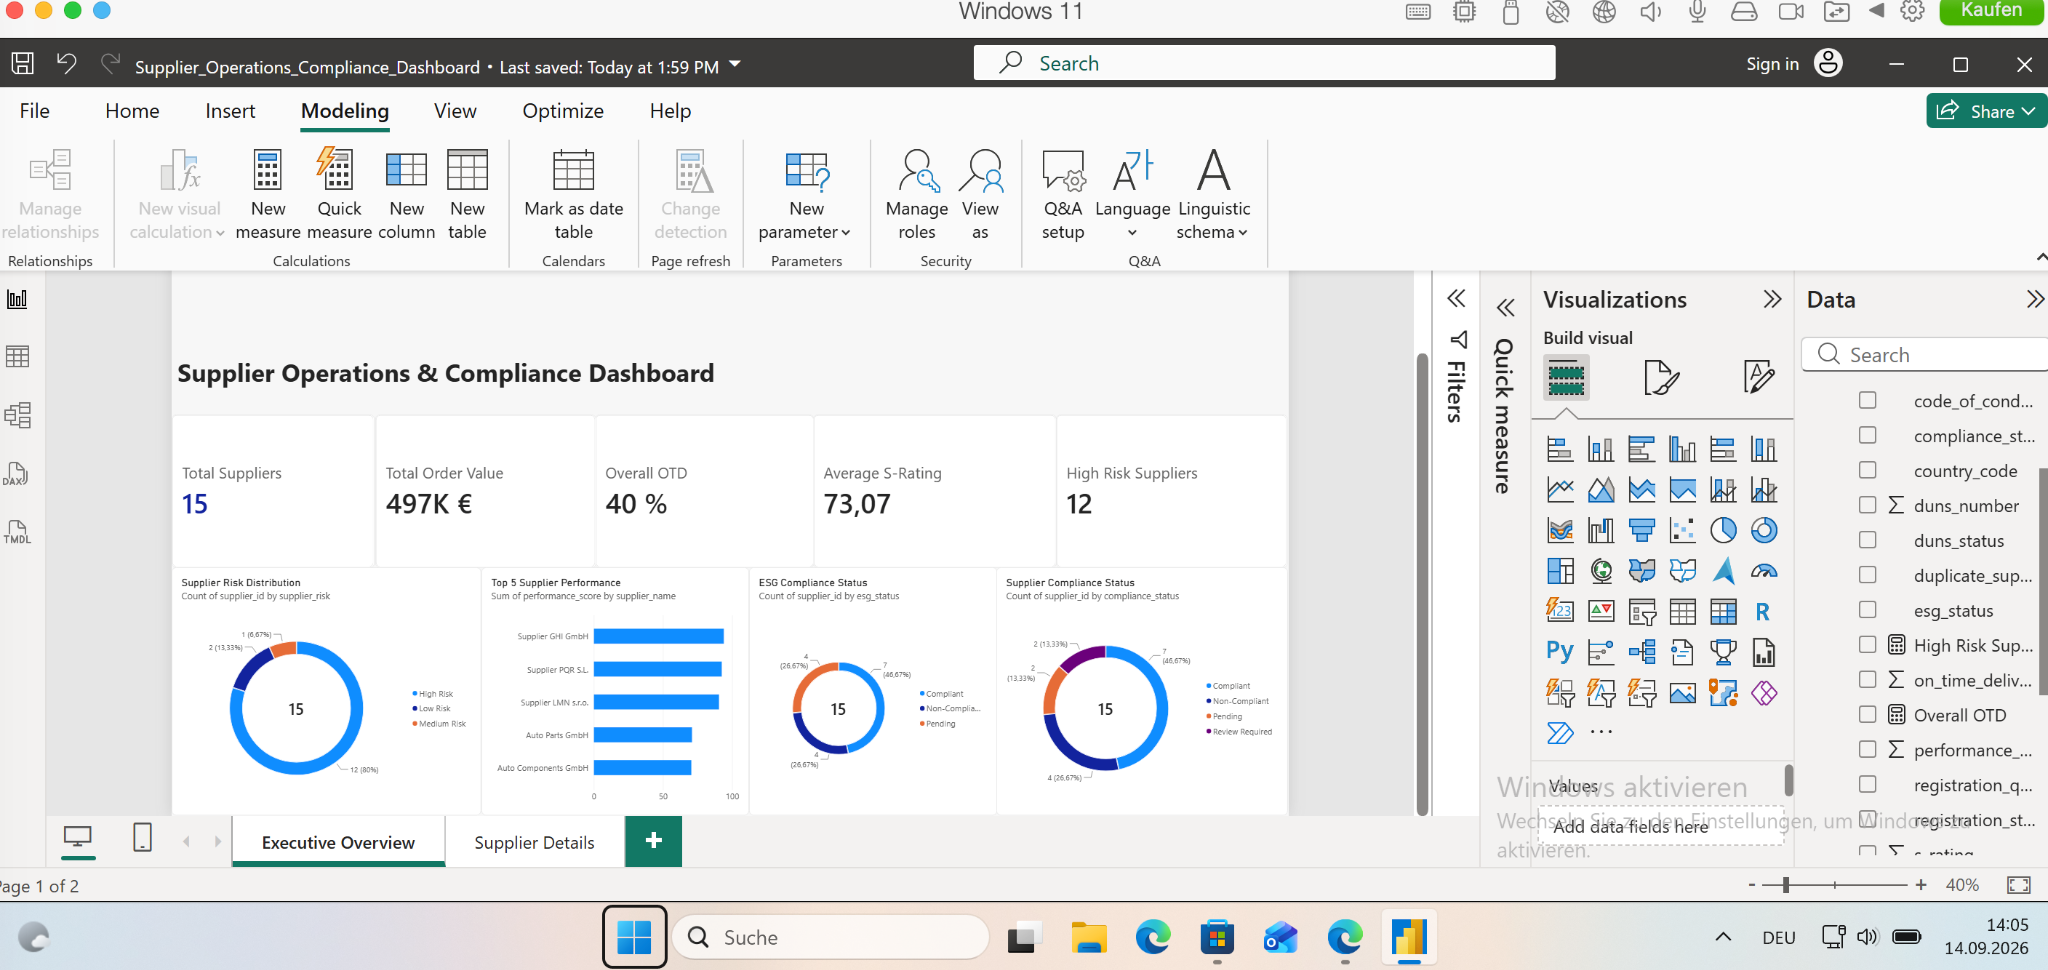

What the dashboard file says about the page in this screenshot:
{"tool":"powerbi","page":{"name":"Executive Overview","canvas":[1920,1080],"ordinal":0},"visuals":[{"type":"cardVisual","fields":{"Data":["supplier_kpi_analysis.Total Suppliers"]},"box":[0,390.1,348.8,263.5],"z":0},{"type":"cardVisual","fields":{"Data":["supplier_kpi_analysis.Average S-Rating"]},"box":[1103.3,390.1,418.6,263.5],"z":1},{"type":"cardVisual","fields":{"Data":["supplier_kpi_analysis.High Risk Suppliers"]},"box":[1521.8,390.1,397.9,263.5],"z":2},{"type":"cardVisual","fields":{"Data":["supplier_kpi_analysis.Overall OTD"]},"box":[728.6,390.1,377.2,263.5],"z":3},{"type":"cardVisual","fields":{"Data":["supplier_kpi_analysis.Total Order Value"]},"box":[348.8,390.1,379.8,263.5],"z":4},{"type":"textbox","box":[10.3,286.8,1909.4,121.4],"z":5},{"type":"donutChart","title":"Supplier Risk Distribution","fields":{"Category":["supplier_kpi_analysis.supplier_risk"],"Y":["CountNonNull(supplier_kpi_analysis.supplier_id)"]},"box":[0,653.7,532.2,426.3],"z":6},{"type":"clusteredBarChart","title":"Top 5 Supplier Performance","fields":{"Category":["supplier_kpi_analysis.supplier_name"],"Y":["Sum(supplier_kpi_analysis.performance_score)"]},"box":[532.2,653.7,459.9,426.3],"z":7},{"type":"donutChart","title":"ESG Compliance Status","fields":{"Category":["supplier_kpi_analysis.esg_status"],"Y":["CountNonNull(supplier_kpi_analysis.supplier_id)"]},"box":[992.2,653.7,426.3,426.3],"z":8},{"type":"donutChart","title":"Supplier Compliance Status","fields":{"Category":["supplier_kpi_analysis.compliance_status"],"Y":["CountNonNull(supplier_kpi_analysis.supplier_id)"]},"box":[1418.5,653.7,501.2,426.3],"z":9}]}

Visuals, with their boxes on the page's 1920x1080 design canvas (x1, y1, x2, y2). These are canvas units, not pixel positions in the 2048x970 screenshot, which may show the page scaled, cropped or inside an application window:
cardVisual - supplier_kpi_analysis.Total Suppliers: 0 390 349 654
cardVisual - supplier_kpi_analysis.Average S-Rating: 1103 390 1522 654
cardVisual - supplier_kpi_analysis.High Risk Suppliers: 1522 390 1920 654
cardVisual - supplier_kpi_analysis.Overall OTD: 729 390 1106 654
cardVisual - supplier_kpi_analysis.Total Order Value: 349 390 729 654
textbox: 10 287 1920 408
"Supplier Risk Distribution" donutChart: 0 654 532 1080
"Top 5 Supplier Performance" clusteredBarChart: 532 654 992 1080
"ESG Compliance Status" donutChart: 992 654 1418 1080
"Supplier Compliance Status" donutChart: 1418 654 1920 1080
